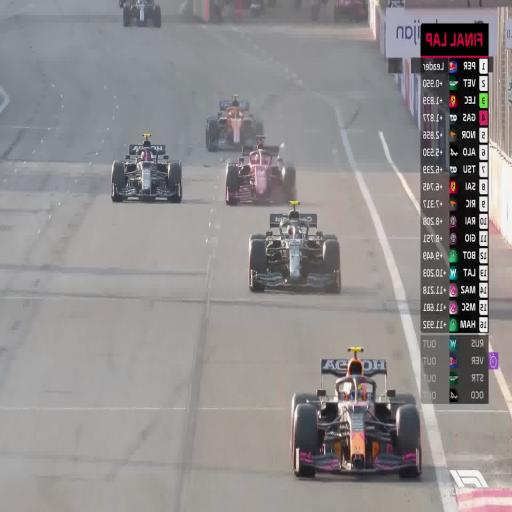f1_car: (291, 347, 422, 477), (249, 201, 341, 293), (225, 136, 296, 205), (111, 133, 182, 201), (206, 95, 263, 151), (120, 0, 161, 27)
